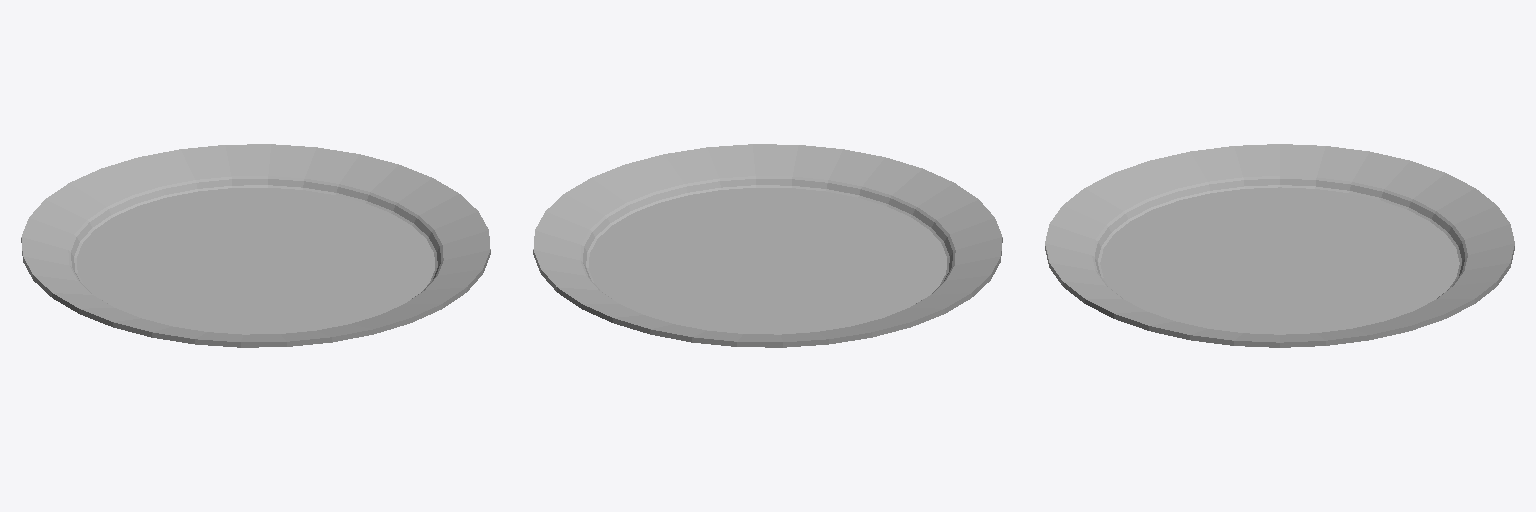
Rendered from dish.obj.
The picture shows the model from 3 angles: view 1: azimuth 30°, elevation 25°; view 2: azimuth 150°, elevation 25°; view 3: azimuth 270°, elevation 25°; orthographic projection.
Parts seen in each view (by area): view 1: 000_Dish; view 2: 000_Dish; view 3: 000_Dish.
Boxes of the visible parts, x1,y1,x2,y2 form: 000_Dish: [21, 144, 490, 347]; 000_Dish: [533, 144, 1002, 347]; 000_Dish: [1045, 144, 1514, 347].
Bounding box in the file's own units: 42.34 × 2.52 × 42.34.